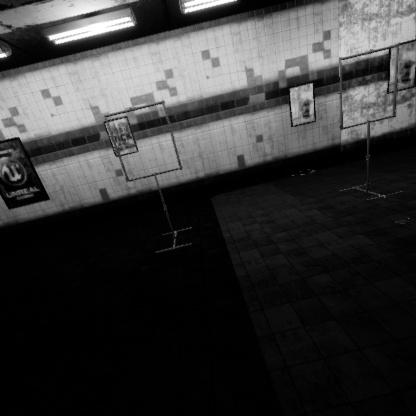gate: (103, 232, 188, 316), (340, 284, 405, 373)
